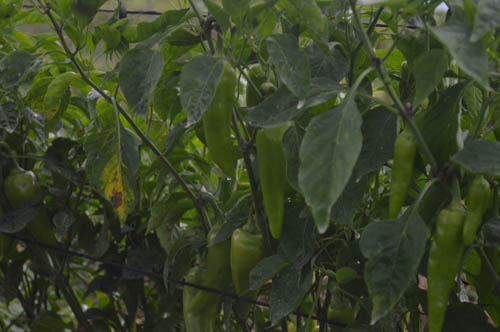ChiliPepper: (427, 210, 463, 328), (10, 175, 57, 244), (204, 64, 233, 173), (191, 231, 230, 311), (255, 127, 283, 232), (389, 138, 417, 219), (229, 229, 265, 287), (184, 274, 217, 330), (463, 185, 491, 244)
